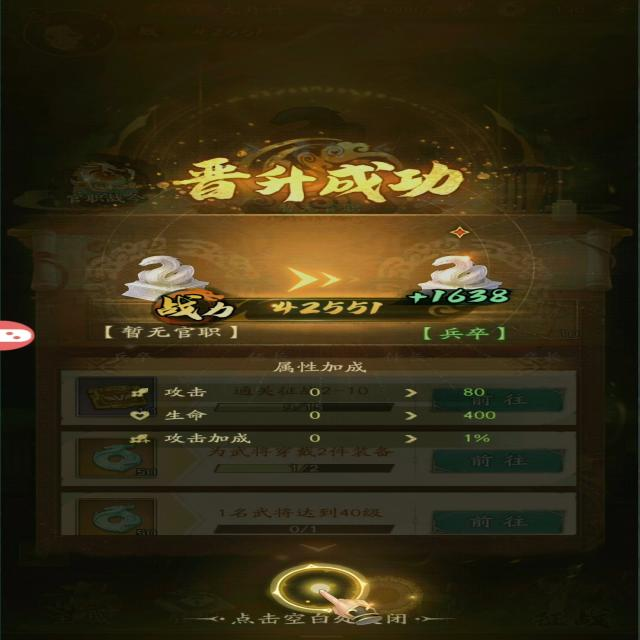hint-guide: (259, 556, 403, 624)
